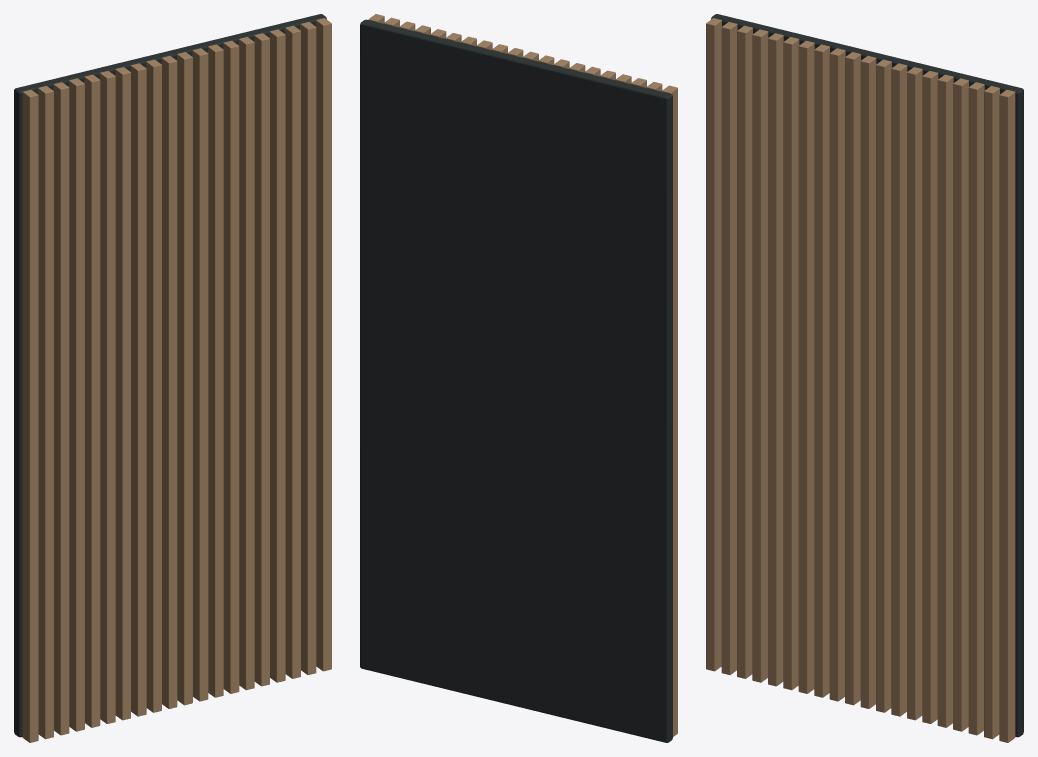
The model's file is wall-panel.glb.
3 renders of one model, left to right at view 1: azimuth 30°, elevation 25°; view 2: azimuth 150°, elevation 25°; view 3: azimuth 330°, elevation 25°, orthographic.
Visible parts, largest first — view 1: wall panel_panel_2, wall panel_panel_15, wall panel_panel_16, wall panel_panel_6, wall panel_panel_9, wall panel_panel_11, wall panel_panel_13, wall panel_panel_18, wall panel_panel_4, wall panel_panel_20, wall panel_panel_7, wall panel_panel_10 (+9 smaller); view 2: wall panel_panel_1, wall panel_panel_2; view 3: wall panel_panel_21, wall panel_panel_8, wall panel_panel_7, wall panel_panel_14, wall panel_panel_17, wall panel_panel_10, wall panel_panel_12, wall panel_panel_19, wall panel_panel_5, wall panel_panel_16, wall panel_panel_3, wall panel_panel_13 (+9 smaller).
Part boxes in pixels (bbox=[...]): wall panel_panel_2: bbox=[22, 89, 38, 742]; wall panel_panel_15: bbox=[223, 40, 239, 693]; wall panel_panel_16: bbox=[238, 37, 254, 690]; wall panel_panel_6: bbox=[84, 74, 100, 727]; wall panel_panel_9: bbox=[130, 63, 146, 716]; wall panel_panel_11: bbox=[161, 56, 177, 708]; wall panel_panel_13: bbox=[192, 48, 208, 701]; wall panel_panel_18: bbox=[269, 29, 285, 682]; wall panel_panel_4: bbox=[53, 82, 69, 735]; wall panel_panel_20: bbox=[300, 22, 316, 674]; wall panel_panel_7: bbox=[99, 71, 115, 723]; wall panel_panel_10: bbox=[146, 59, 161, 712]; wall panel_panel_1: bbox=[360, 19, 672, 742]; wall panel_panel_2: bbox=[662, 85, 677, 736]; wall panel_panel_21: bbox=[999, 89, 1015, 742]; wall panel_panel_8: bbox=[798, 40, 814, 693]; wall panel_panel_7: bbox=[783, 37, 799, 690]; wall panel_panel_14: bbox=[891, 63, 907, 716]; wall panel_panel_17: bbox=[937, 74, 953, 727]; wall panel_panel_10: bbox=[829, 48, 845, 701]; wall panel_panel_12: bbox=[860, 56, 876, 708]; wall panel_panel_19: bbox=[968, 82, 984, 735]; wall panel_panel_5: bbox=[752, 29, 768, 682]; wall panel_panel_16: bbox=[922, 71, 938, 723]; wall panel_panel_3: bbox=[721, 22, 737, 674]; wall panel_panel_13: bbox=[876, 59, 891, 712].
Size of the model in its own units: 1.2 by 2.4 by 0.09.
